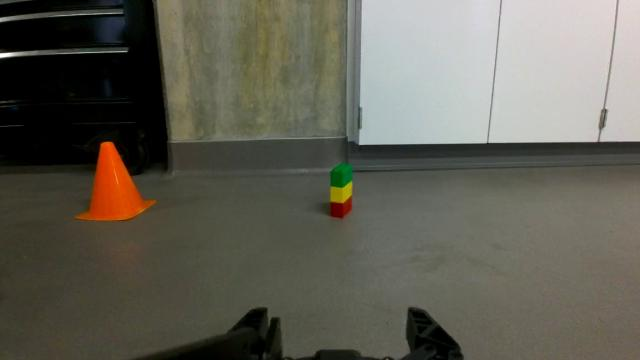lego: (325, 157, 356, 226)
